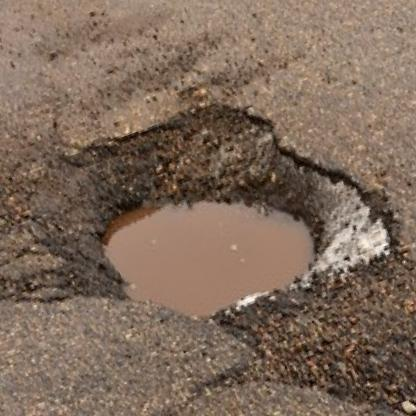pothole: (59, 58, 407, 360)
